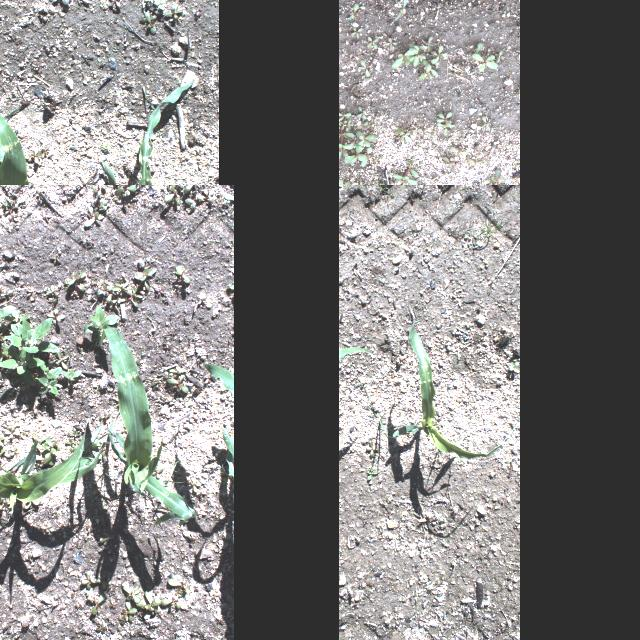crop: (94, 328, 196, 526), (392, 320, 518, 458), (35, 77, 194, 185), (0, 399, 105, 518), (0, 85, 114, 185), (339, 346, 374, 487), (204, 360, 234, 396), (222, 428, 234, 512)
weed: (0, 320, 58, 374), (389, 30, 446, 80), (356, 381, 396, 439), (339, 106, 377, 167), (439, 140, 485, 176), (468, 207, 504, 247), (469, 40, 509, 74), (85, 307, 118, 347), (390, 155, 419, 185), (157, 458, 185, 487), (36, 364, 62, 394), (396, 124, 430, 146), (0, 292, 16, 335), (1, 312, 29, 336), (339, 174, 399, 185), (432, 109, 456, 135), (347, 2, 363, 40), (164, 186, 192, 204), (354, 56, 374, 80), (42, 436, 58, 464), (65, 272, 87, 292), (483, 166, 506, 185), (83, 206, 103, 227), (140, 10, 156, 36), (380, 29, 398, 52), (164, 2, 184, 22), (476, 112, 494, 134), (122, 583, 140, 605), (27, 147, 51, 163), (82, 569, 101, 589), (96, 470, 116, 488), (2, 198, 16, 222), (144, 590, 158, 614), (126, 286, 142, 306), (168, 376, 188, 392), (88, 594, 104, 614), (121, 602, 135, 624), (364, 33, 378, 53), (169, 578, 189, 592), (98, 284, 120, 296), (160, 598, 182, 610), (176, 266, 190, 284), (54, 350, 68, 368), (0, 334, 8, 364), (115, 185, 136, 196), (61, 370, 80, 382), (140, 268, 156, 282), (48, 308, 64, 322), (366, 439, 378, 457), (100, 532, 114, 546), (198, 190, 214, 202), (4, 426, 20, 438), (484, 147, 496, 161), (7, 444, 19, 458), (115, 282, 129, 294), (188, 479, 200, 493), (95, 621, 107, 635), (49, 0, 72, 7), (40, 522, 56, 532), (97, 500, 107, 516), (367, 465, 377, 481), (153, 0, 166, 12), (0, 449, 11, 463), (22, 501, 40, 509), (48, 284, 58, 298), (92, 185, 105, 195), (510, 361, 520, 373), (177, 468, 190, 477), (376, 185, 390, 193), (448, 441, 462, 449), (186, 198, 197, 208), (152, 377, 162, 388), (155, 286, 165, 296), (70, 429, 80, 439), (48, 257, 60, 265), (170, 368, 184, 374), (98, 201, 106, 211), (194, 302, 202, 312), (66, 440, 76, 448), (110, 600, 118, 610), (154, 468, 162, 476), (150, 587, 158, 595), (111, 300, 125, 304), (105, 294, 112, 302), (414, 592, 421, 600), (225, 194, 233, 200), (72, 292, 80, 298), (144, 284, 150, 292), (0, 435, 4, 447), (218, 481, 226, 485), (226, 285, 234, 289), (442, 538, 446, 546), (439, 518, 446, 522), (134, 275, 140, 279), (457, 354, 461, 360), (433, 328, 437, 334), (339, 638, 342, 640)
